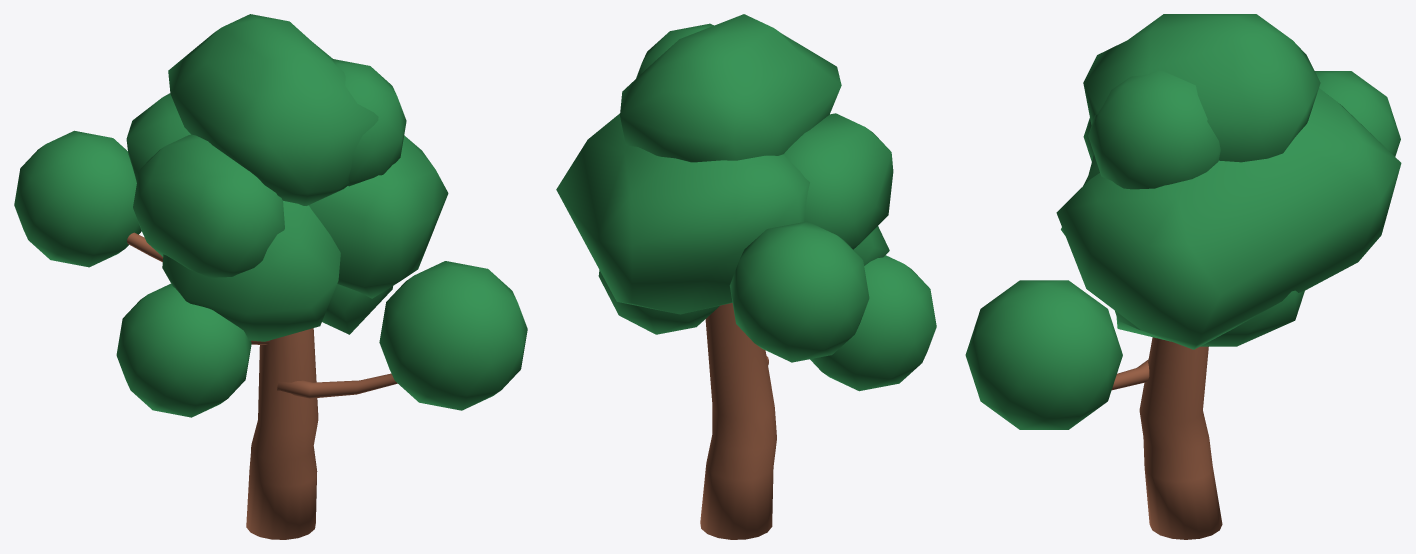
The model's file is tree2.fbx.
3 renders of one model, left to right at view 1: azimuth 30°, elevation 25°; view 2: azimuth 150°, elevation 25°; view 3: azimuth 270°, elevation 25°, orthographic. The views are drawn at different scales.
Visible parts, largest first — view 1: leaves, tree_trunk, branches; view 2: leaves, tree_trunk; view 3: leaves, tree_trunk, branches.
Part boxes in pixels (<box>): leaves: <box>14,14,527,417</box>; tree_trunk: <box>246,328,318,539</box>; branches: <box>127,232,397,398</box>; leaves: <box>556,14,936,391</box>; tree_trunk: <box>700,303,776,539</box>; leaves: <box>965,14,1401,429</box>; tree_trunk: <box>1139,337,1222,539</box>; branches: <box>1112,359,1149,390</box>.
Size of the model in its own units: 1164 by 1535 by 1196.
